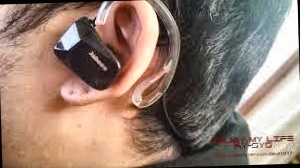earphone: (52, 1, 162, 107)
